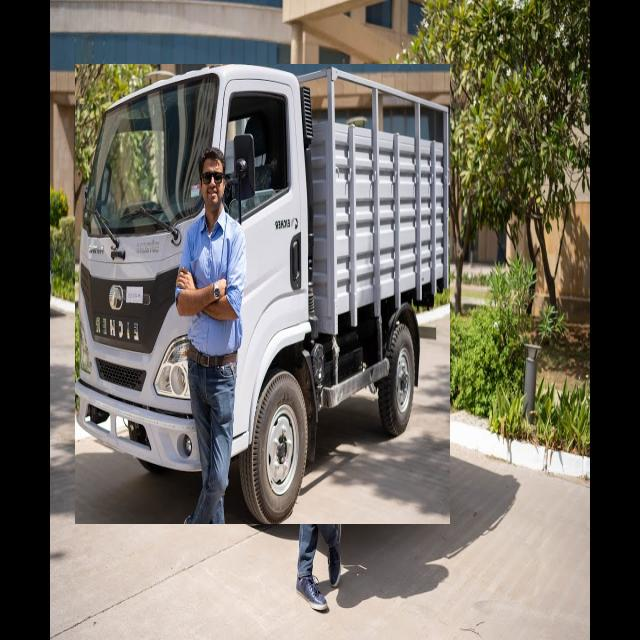truck: (75, 65, 450, 524)
